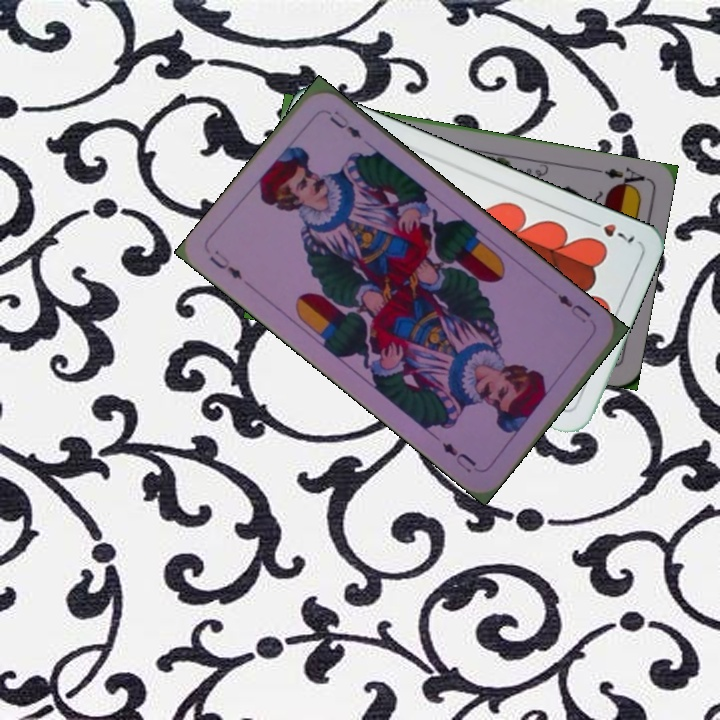EA: (590, 163, 649, 193)
EU: (553, 289, 594, 326), (205, 246, 245, 283)
H7: (583, 216, 638, 247)
